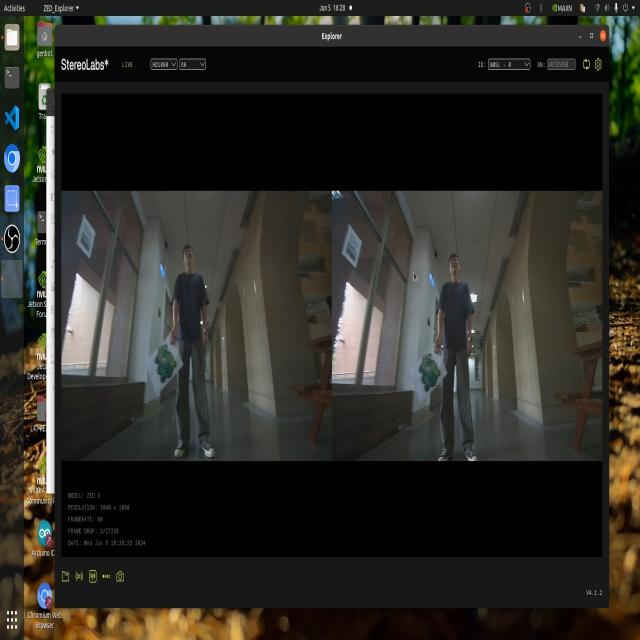green: (414, 359, 451, 407), (150, 342, 181, 386)
